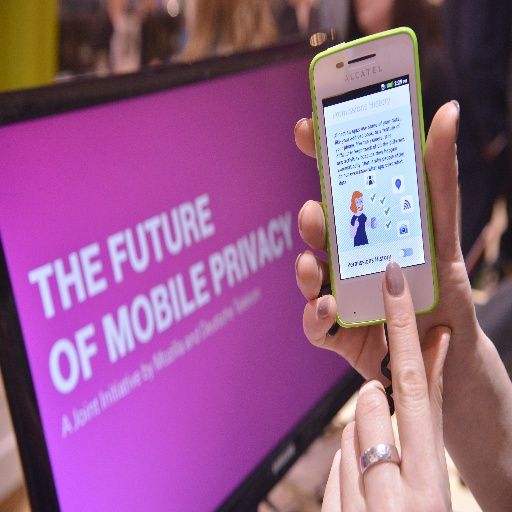hand: (294, 100, 480, 409), (320, 256, 452, 511)
